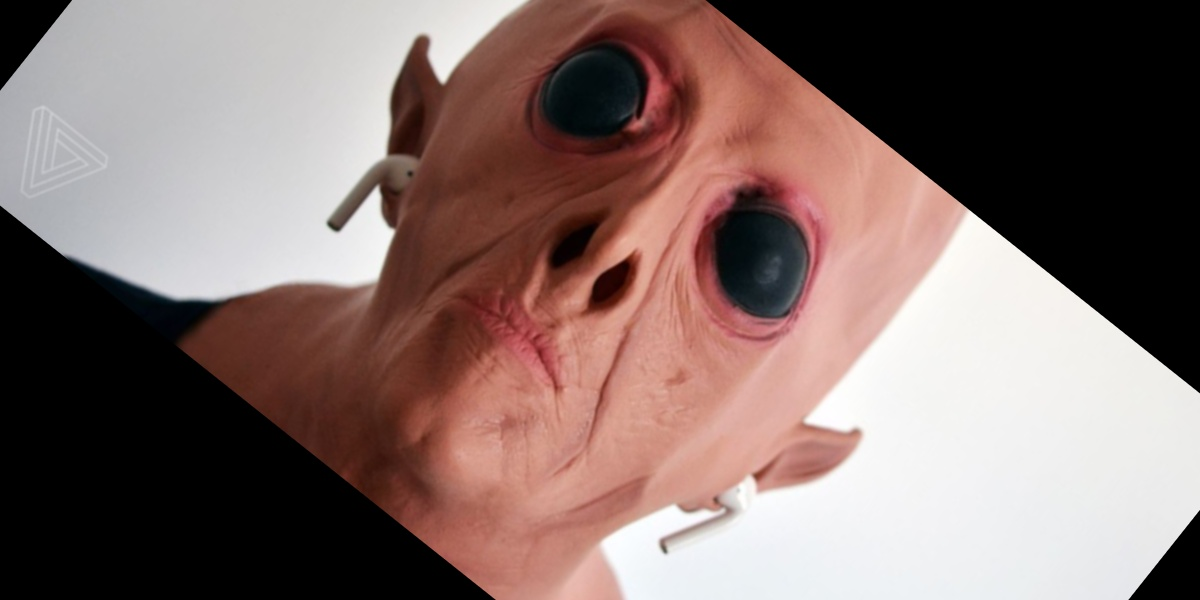earphone: (296, 34, 487, 242), (676, 371, 863, 569)
